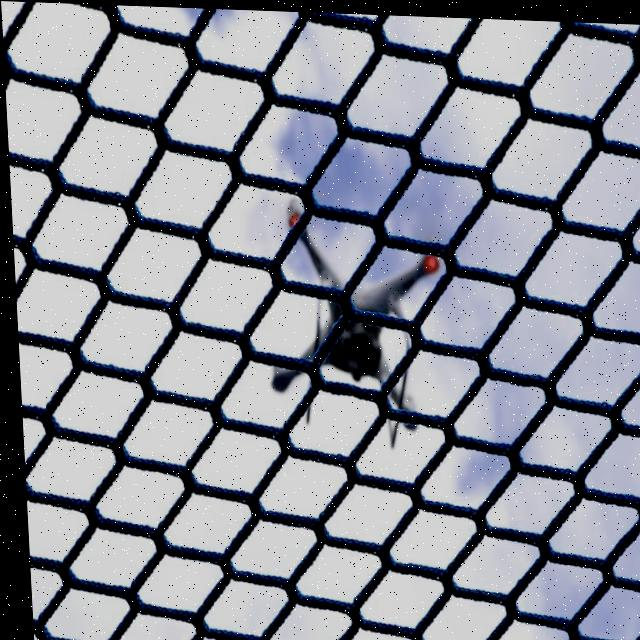drone: (255, 186, 453, 426)
